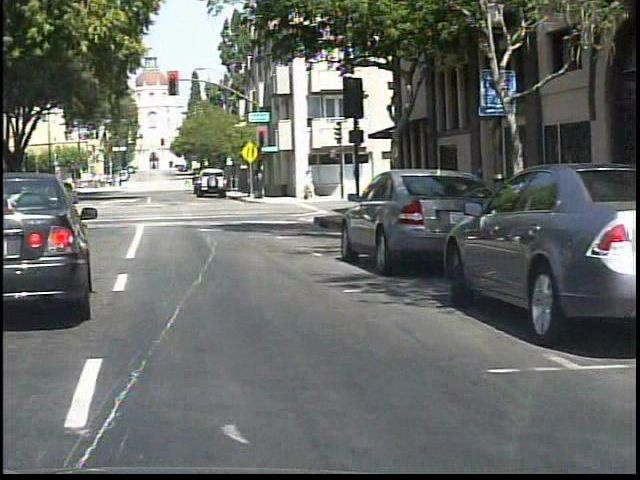person: (13, 172, 33, 211), (2, 175, 20, 212)
